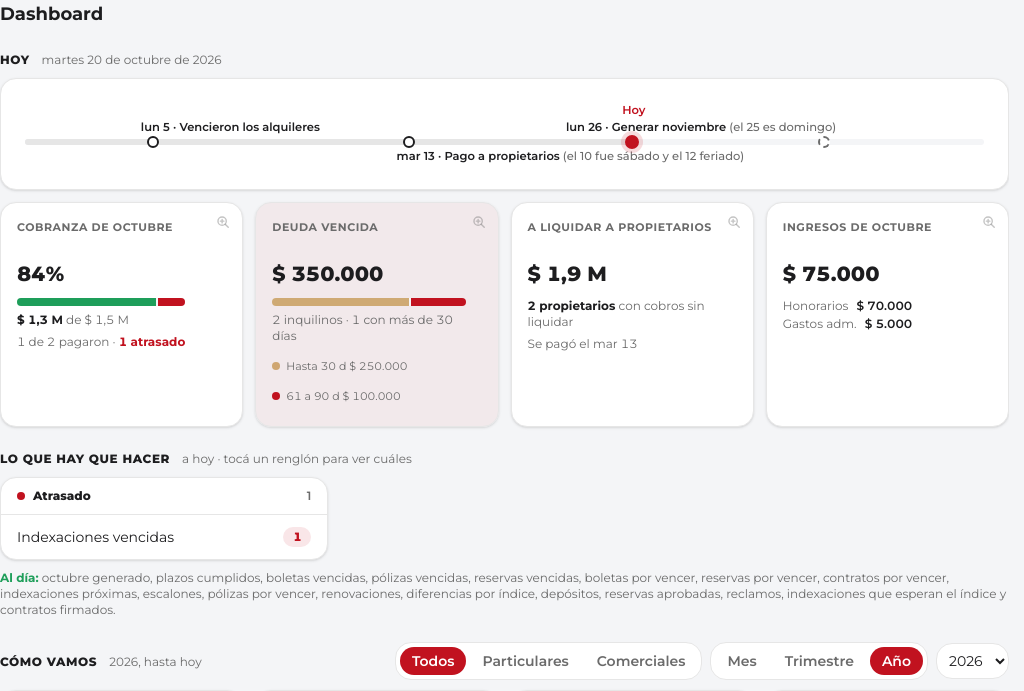
Test: TableroAlquileres en tres bloques (17/10/2026) › Hoy › regla 177: los ingresos del mes, con las partes que no están en cero; la lista se pide al abrirla, del mes y de toda la cartera
// El filtro de «Cómo vamos» no la cambia.
Click the button "Particulares". click: (526,661)
box: [470,647,581,675]
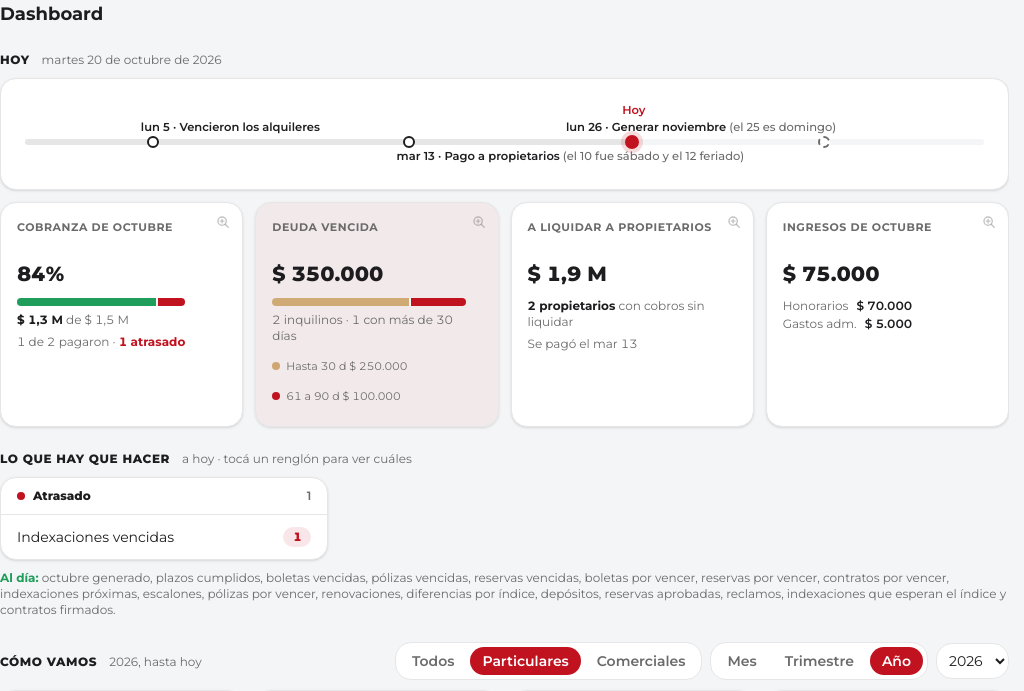
Click the button with aria-label "Ingresos de octubre: $ 75.000". click: (887,314)
box: [767,203,1008,426]
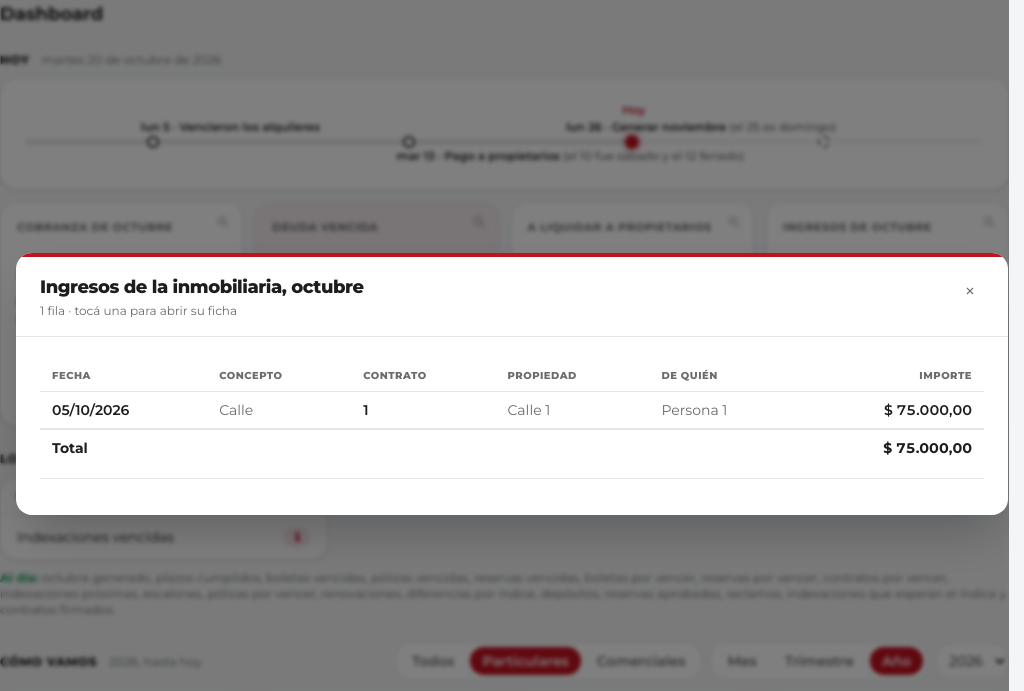
Expected: the table is shown, [40,361,984,466]
